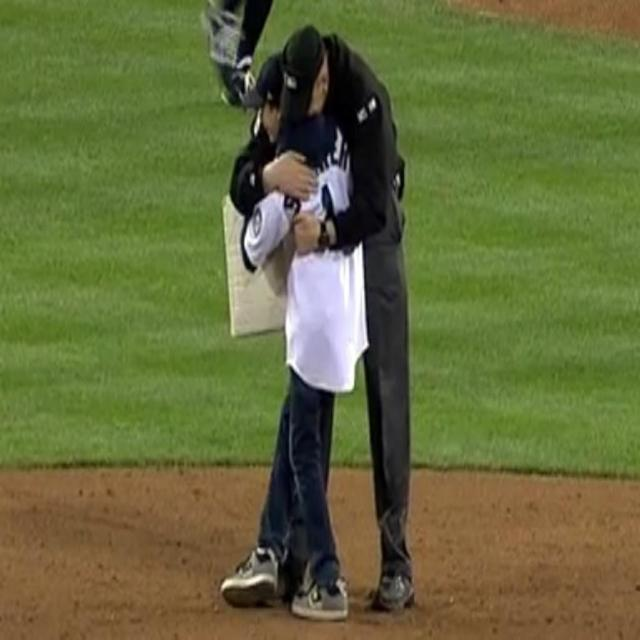nomask: (301, 77, 327, 115), (261, 96, 279, 142)
